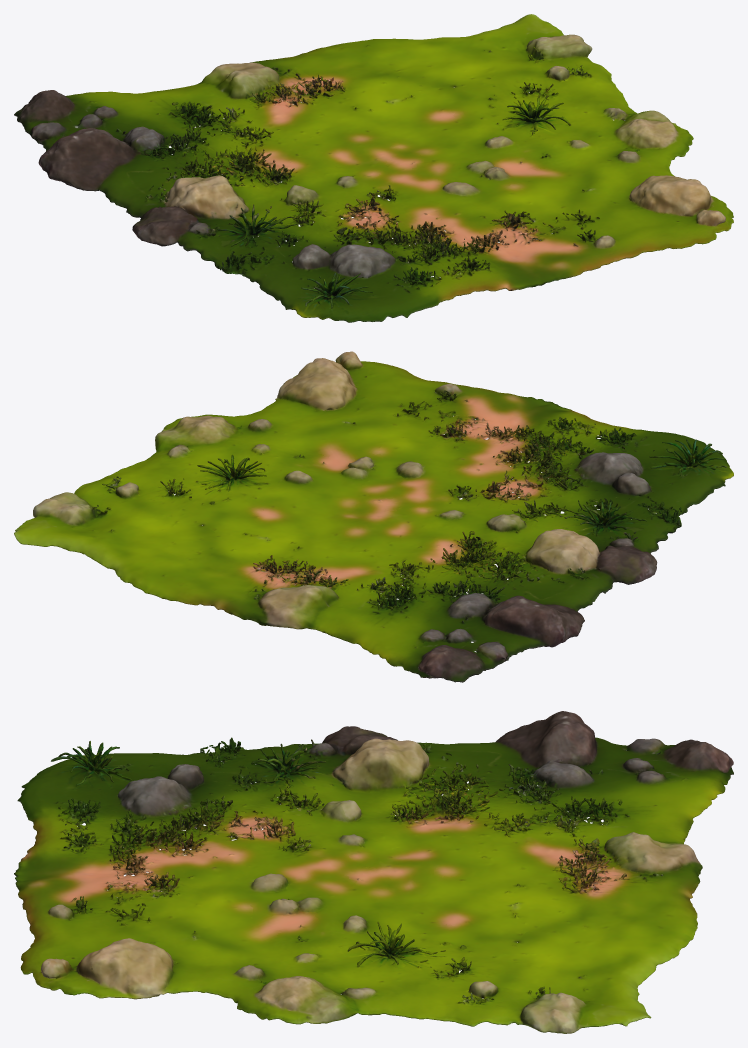
File: Meshy_AI_Path_to_Horizon_0319011036_texture.glb
3 renders of one model, top to bottom at view 1: azimuth 30°, elevation 25°; view 2: azimuth 150°, elevation 25°; view 3: azimuth 270°, elevation 25°, orthographic. The views are drawn at different scales.
Size of the model in its own units: 1.87 by 0.1088 by 1.88.
1 material, 1 textured.
